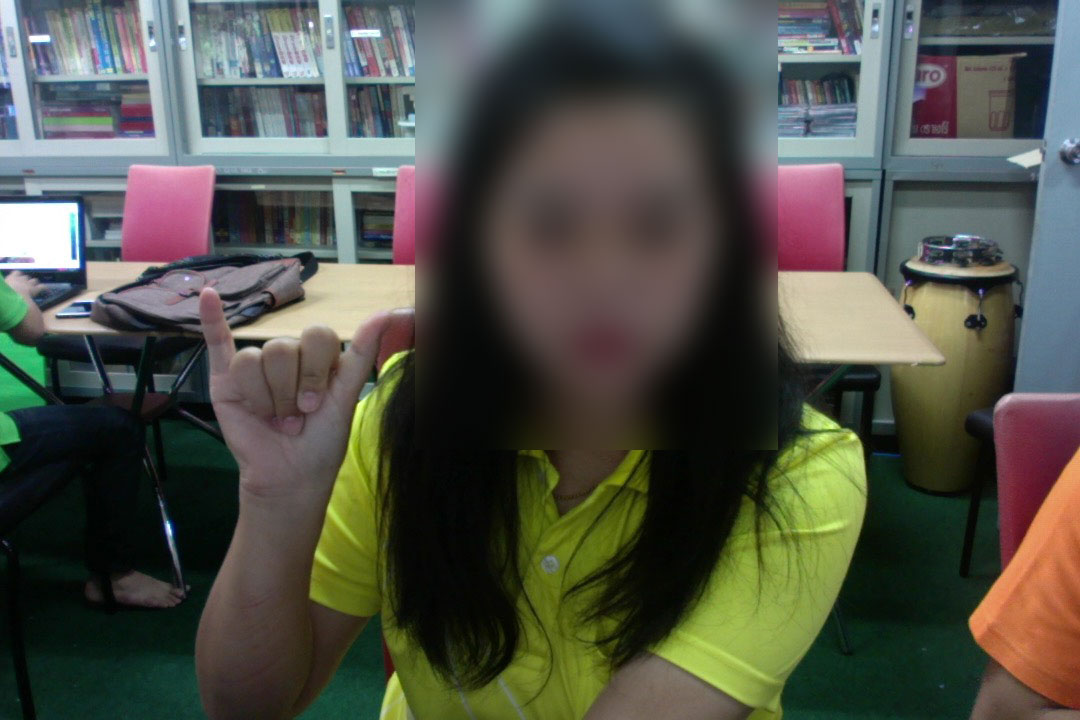yor: (193, 277, 406, 493)
